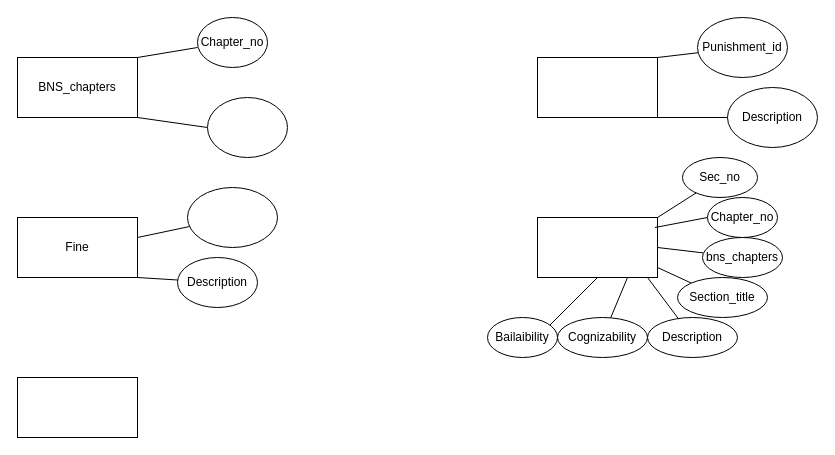
Image size: 835x455. Some labels were removed from this diagram. Here are the shapes that lost their labels. From the top down, the box of each, then its label:
(536, 56, 658, 118): Punishment
(206, 96, 288, 158): Chapter_name
(186, 186, 278, 248): Fine_id
(536, 216, 658, 278): BNS_Sections
